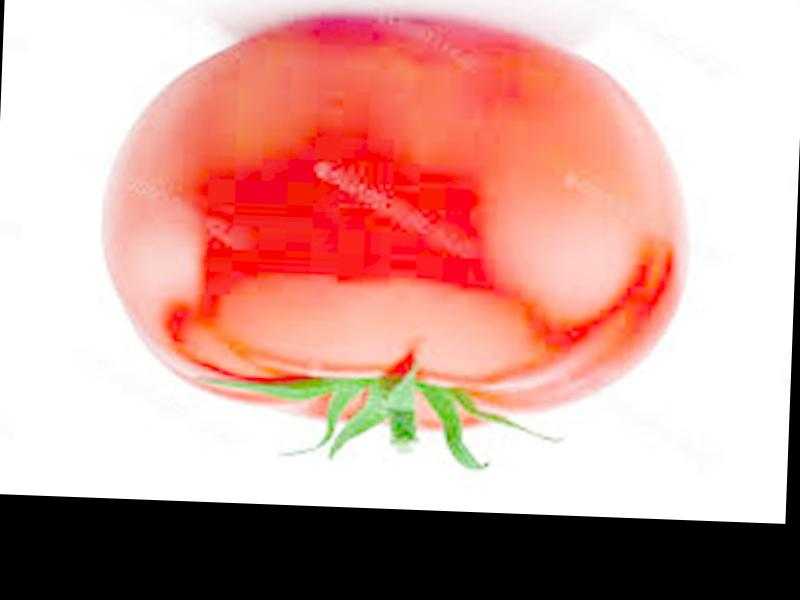Tomato: (94, 18, 695, 438)
